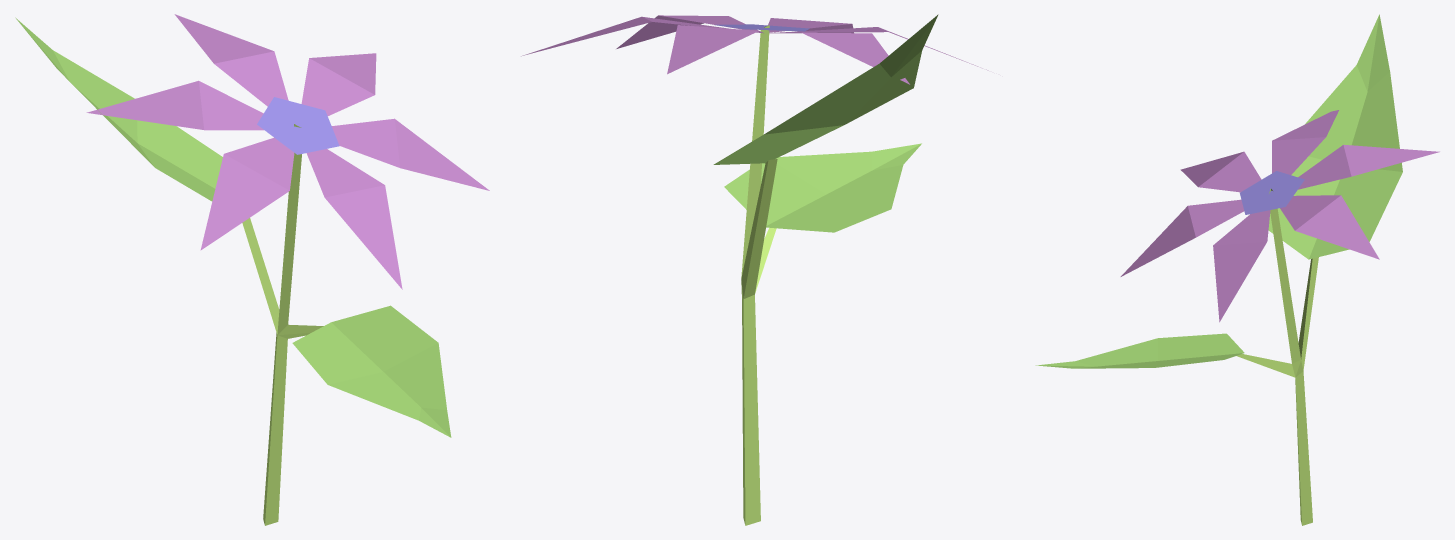
File: Flower_b_OneS_09.fbx
The picture shows the model from 3 angles, left to right: view 1: azimuth 30°, elevation 25°; view 2: azimuth 150°, elevation 25°; view 3: azimuth 270°, elevation 25°; orthographic projection. The views are drawn at different scales.
Visible parts, largest first — view 1: Flower_b_OneS_09; view 2: Flower_b_OneS_09; view 3: Flower_b_OneS_09.
Part boxes in pixels (left/top/right/bottom): Flower_b_OneS_09: left=15, top=14, right=489, bottom=525; Flower_b_OneS_09: left=521, top=14, right=988, bottom=525; Flower_b_OneS_09: left=1035, top=14, right=1439, bottom=525.
Size of the model in its own units: 0.4047 by 0.5355 by 0.4618.
